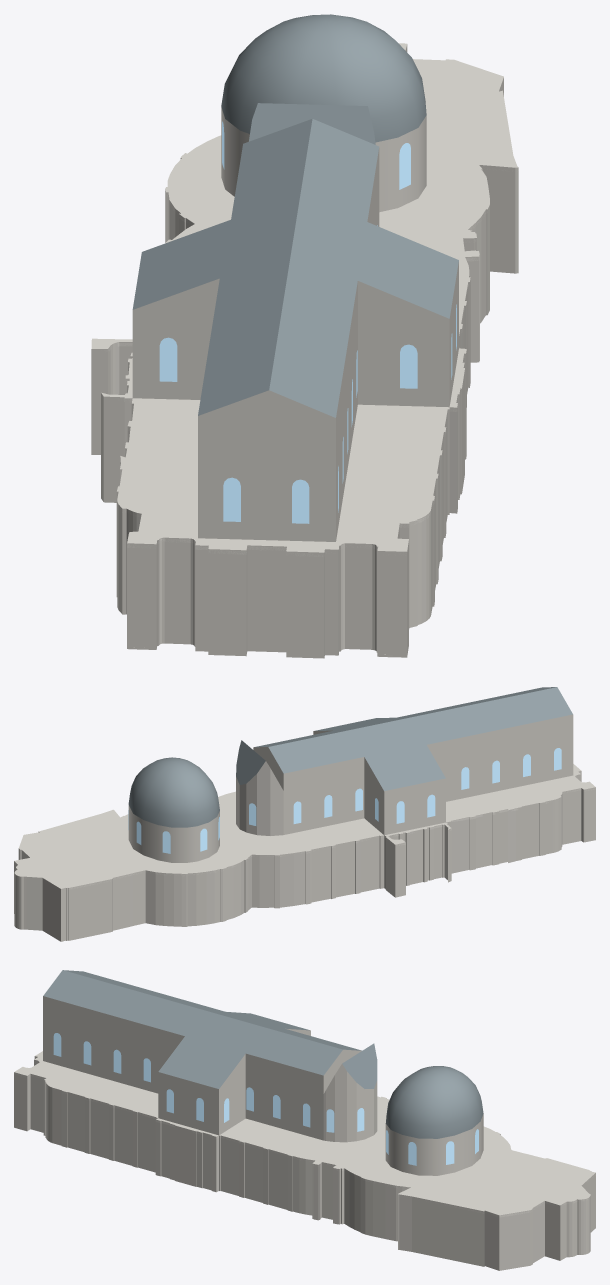
3 renders of one model, top to bottom at view 1: azimuth 30°, elevation 25°; view 2: azimuth 150°, elevation 25°; view 3: azimuth 270°, elevation 25°, orthographic. The views are drawn at different scales.
Visible parts, largest first — view 1: stone, roof, window, trim; view 2: stone, roof, window, trim; view 3: stone, roof, window, trim.
Part boxes in pixels (x1,y1,x2,y2): stone: (91,43,518,658); roof: (132,14,458,417); window: (159,121,456,523); trim: (101,47,518,556); stone: (14,714,595,941); roof: (128,687,572,827); window: (128,748,561,853); trim: (14,772,595,889); stone: (14,996,595,1270); roof: (43,970,483,1138); window: (53,1033,478,1165); trim: (14,1061,595,1217).
Bounding box in the file's own units: 90.28 × 30 × 114.
